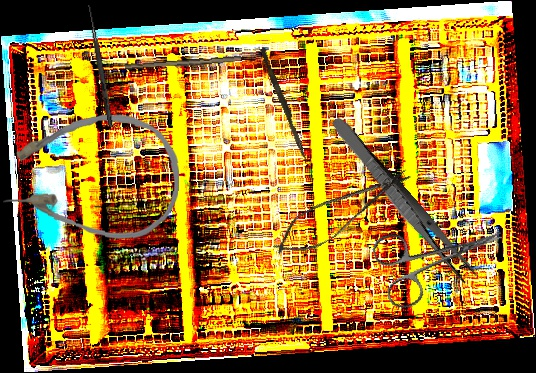Cannula: (1, 109, 182, 242)
Dressing Forceps: (324, 114, 481, 288)
Hook Surgical: (85, 4, 115, 128)
Iris Scissors: (369, 201, 515, 313)
Micro Scissor: (264, 155, 419, 268)
Pusher: (257, 47, 312, 163)
Scalpel Handle: (124, 53, 242, 74)
